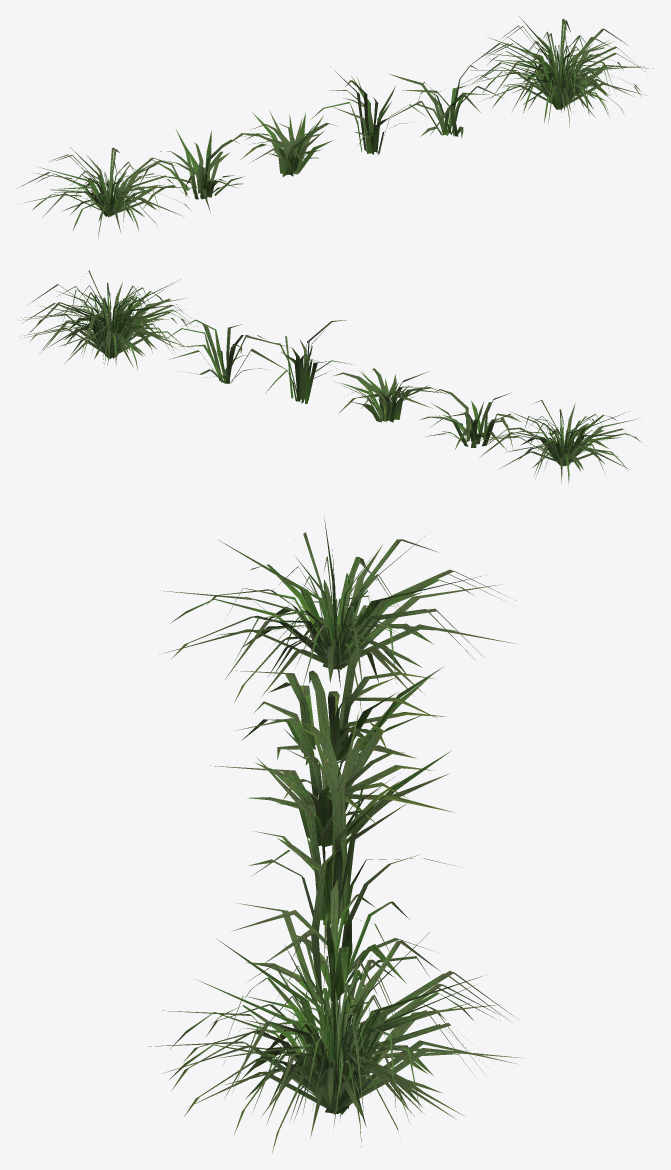
Rendered from grass real .glb.
The picture shows the model from 3 angles, top to bottom: view 1: azimuth 30°, elevation 25°; view 2: azimuth 150°, elevation 25°; view 3: azimuth 270°, elevation 25°; orthographic projection. The views are drawn at different scales.
Parts seen in each view (by area): view 1: Foliage001_2K-JPG_Color.008, Foliage001_2K-JPG_Color.014, Foliage001_2K-JPG_Color.001, Foliage001_2K-JPG_Color.002, Foliage001_2K-JPG_Color.006, Foliage001_2K-JPG_Color.003; view 2: Foliage001_2K-JPG_Color.008, Foliage001_2K-JPG_Color.014, Foliage001_2K-JPG_Color.001, Foliage001_2K-JPG_Color.002, Foliage001_2K-JPG_Color.003, Foliage001_2K-JPG_Color.006; view 3: Foliage001_2K-JPG_Color.008, Foliage001_2K-JPG_Color.014, Foliage001_2K-JPG_Color.002, Foliage001_2K-JPG_Color.001, Foliage001_2K-JPG_Color.003, Foliage001_2K-JPG_Color.006.
Part boxes in pixels (x1=…): Foliage001_2K-JPG_Color.008: x1=467, y1=16, x2=653, y2=127; Foliage001_2K-JPG_Color.014: x1=16, y1=147, x2=201, y2=238; Foliage001_2K-JPG_Color.001: x1=223, y1=110, x2=337, y2=176; Foliage001_2K-JPG_Color.002: x1=140, y1=129, x2=244, y2=211; Foliage001_2K-JPG_Color.006: x1=310, y1=66, x2=426, y2=154; Foliage001_2K-JPG_Color.003: x1=387, y1=65, x2=503, y2=138; Foliage001_2K-JPG_Color.008: x1=17, y1=270, x2=197, y2=369; Foliage001_2K-JPG_Color.014: x1=470, y1=400, x2=640, y2=483; Foliage001_2K-JPG_Color.001: x1=334, y1=368, x2=447, y2=422; Foliage001_2K-JPG_Color.002: x1=420, y1=389, x2=540, y2=449; Foliage001_2K-JPG_Color.003: x1=166, y1=319, x2=293, y2=383; Foliage001_2K-JPG_Color.006: x1=265, y1=320, x2=353, y2=403; Foliage001_2K-JPG_Color.008: x1=148, y1=918, x2=527, y2=1152; Foliage001_2K-JPG_Color.014: x1=159, y1=518, x2=519, y2=712; Foliage001_2K-JPG_Color.002: x1=234, y1=648, x2=448, y2=765; Foliage001_2K-JPG_Color.001: x1=210, y1=721, x2=454, y2=846; Foliage001_2K-JPG_Color.003: x1=233, y1=848, x2=432, y2=1003; Foliage001_2K-JPG_Color.006: x1=248, y1=710, x2=459, y2=925.
Bounding box in the file's own units: 2.2 × 0.3165 × 0.5992.
Materials: 1 (1 with a texture image).
